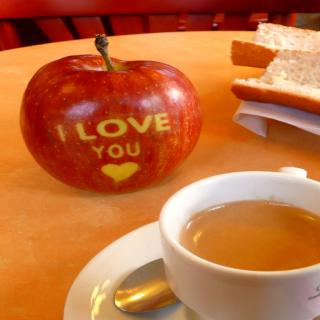Apple: (18, 48, 212, 204)
